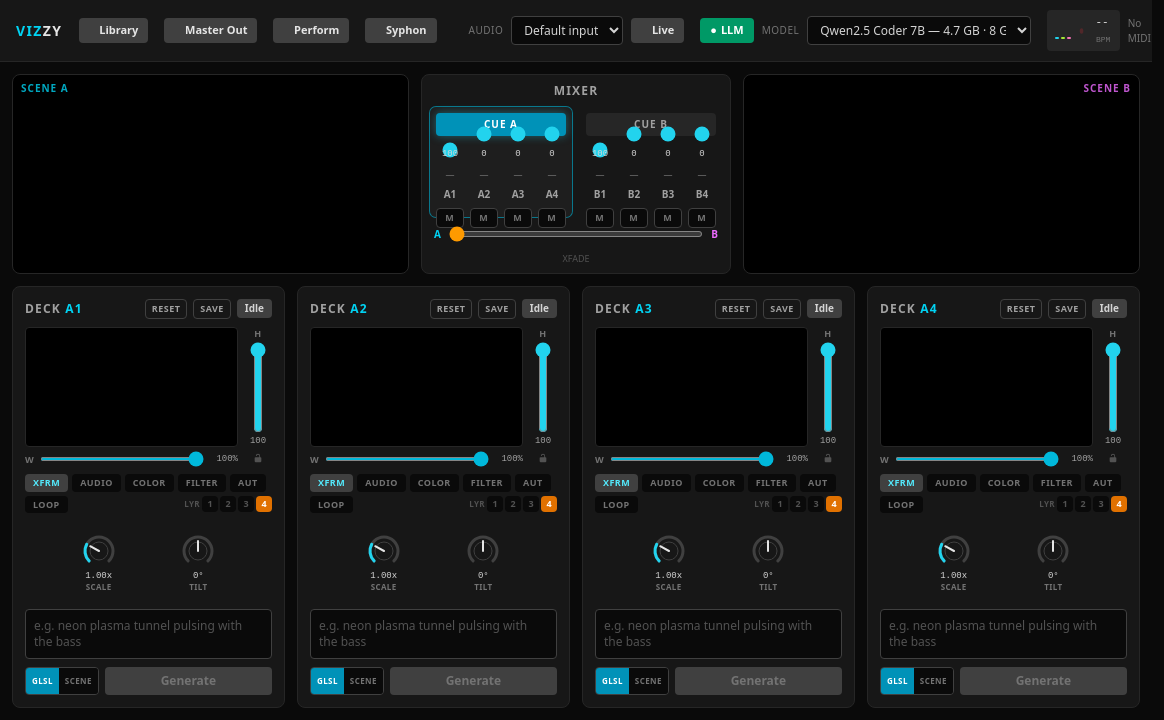
Test: procedural scene generation › SCENE mode sends the scene system prompt and stages the parsed spec
Type "neon wormhole" into the 1st text box with placeholder "e.g. neon plasma tunnel pulsing with the bass" at (148, 634), box [25, 609, 272, 659]
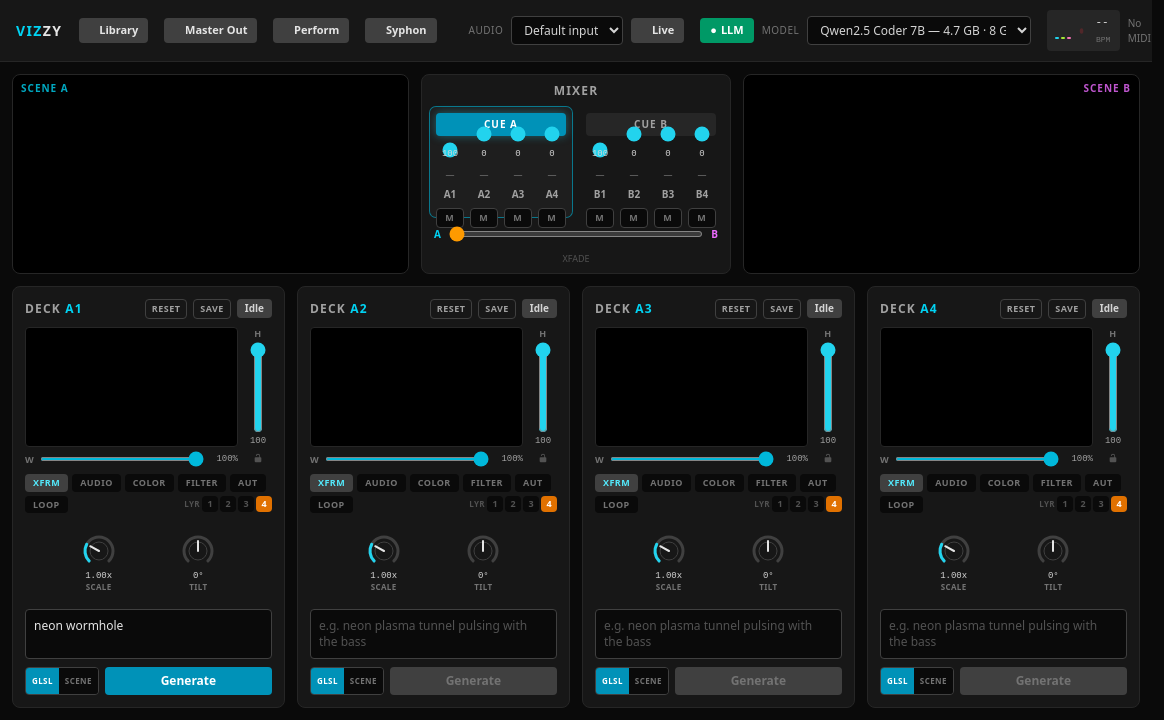
Click the 1st button "SCENE" at (78, 681), box [59, 668, 98, 694]
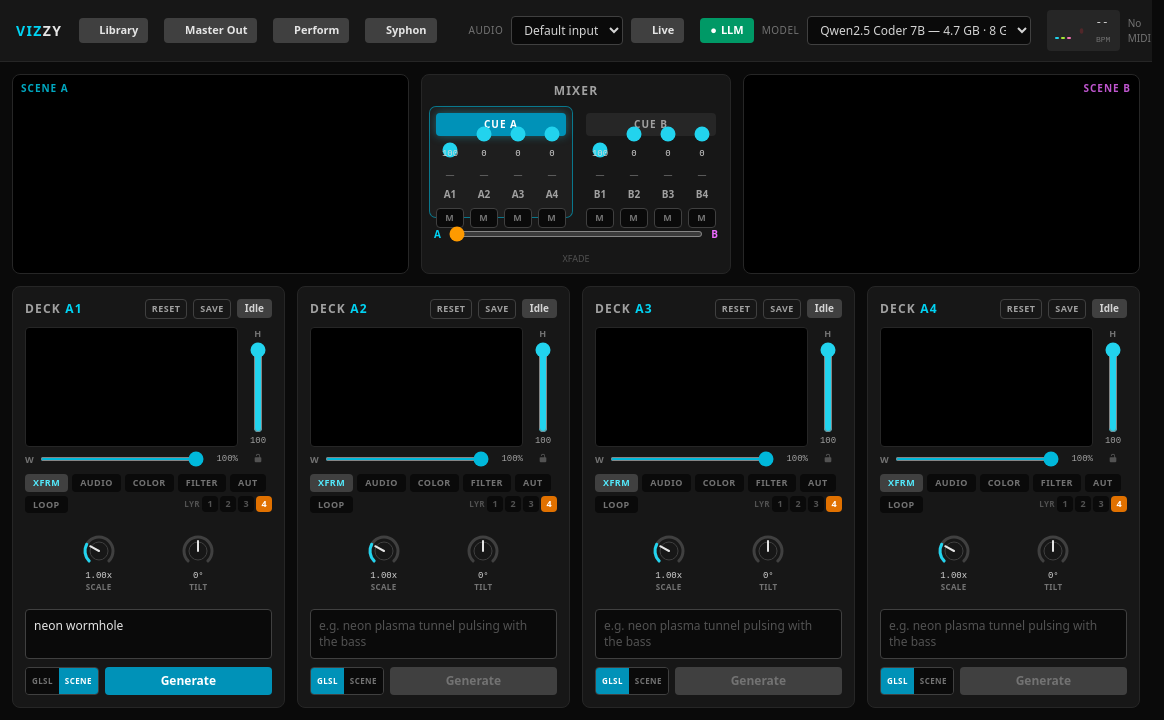
Click the 1st button "Generate" at (188, 681), box [105, 667, 272, 695]
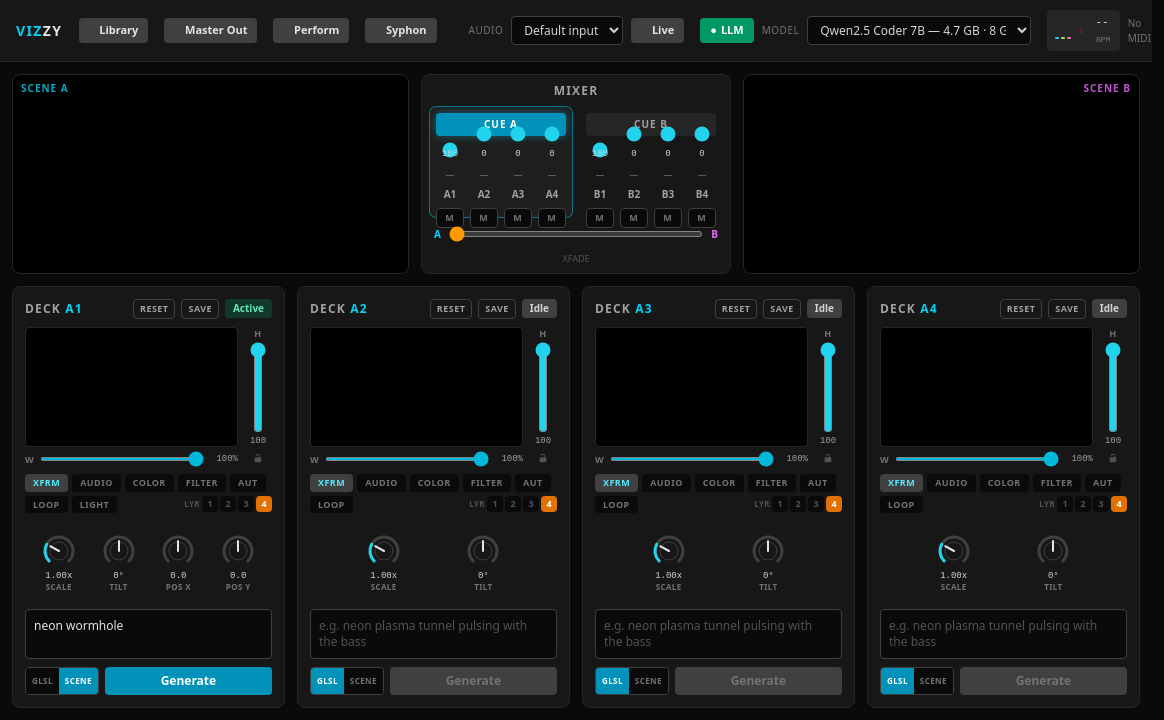
Check: the text "Active" is shown, box [225, 299, 272, 318]
